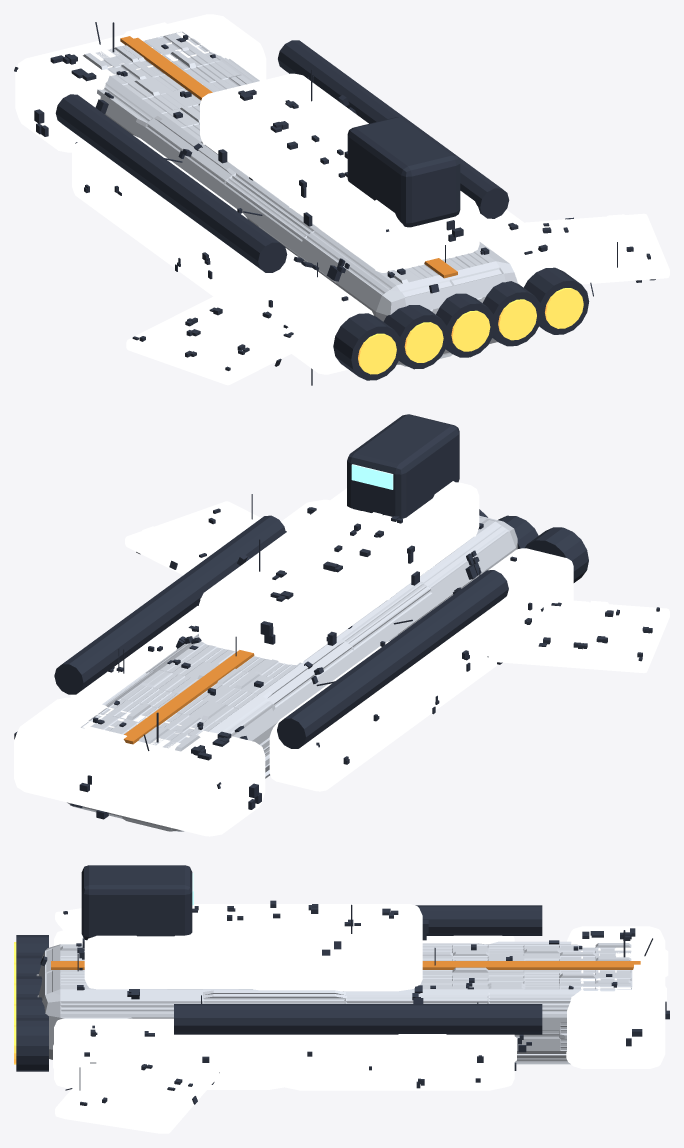
Rendered from humans_huge.glb.
The picture shows the model from 3 angles, top to bottom: view 1: azimuth 30°, elevation 25°; view 2: azimuth 150°, elevation 25°; view 3: azimuth 270°, elevation 25°; orthographic projection. The views are drawn at different scales.
Visible parts, largest first — view 1: humans_huge; view 2: humans_huge; view 3: humans_huge.
Boxes of the visible parts, x1,y1,x2,y2 form: humans_huge: (14,14,669,385); humans_huge: (14,414,669,836); humans_huge: (14,865,669,1133).
Size of the model in its own units: 8.4 by 3.13 by 10.07.
